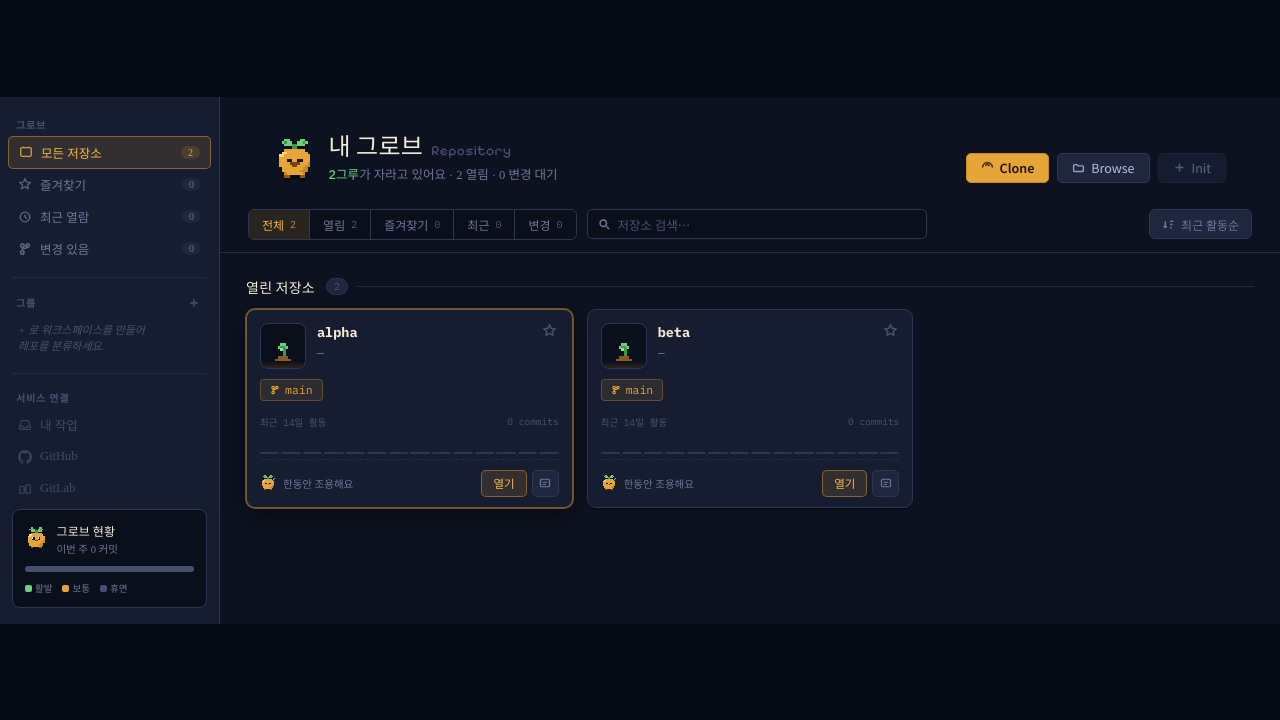
RepoManager — 그로브 카드 그리드 (RM2~RM4) › 검색은 이름으로 필터링한다
Type "alph" into the field with placeholder "저장소 검색…".
click(766, 224); type("alph")  # box [618,215,916,234]
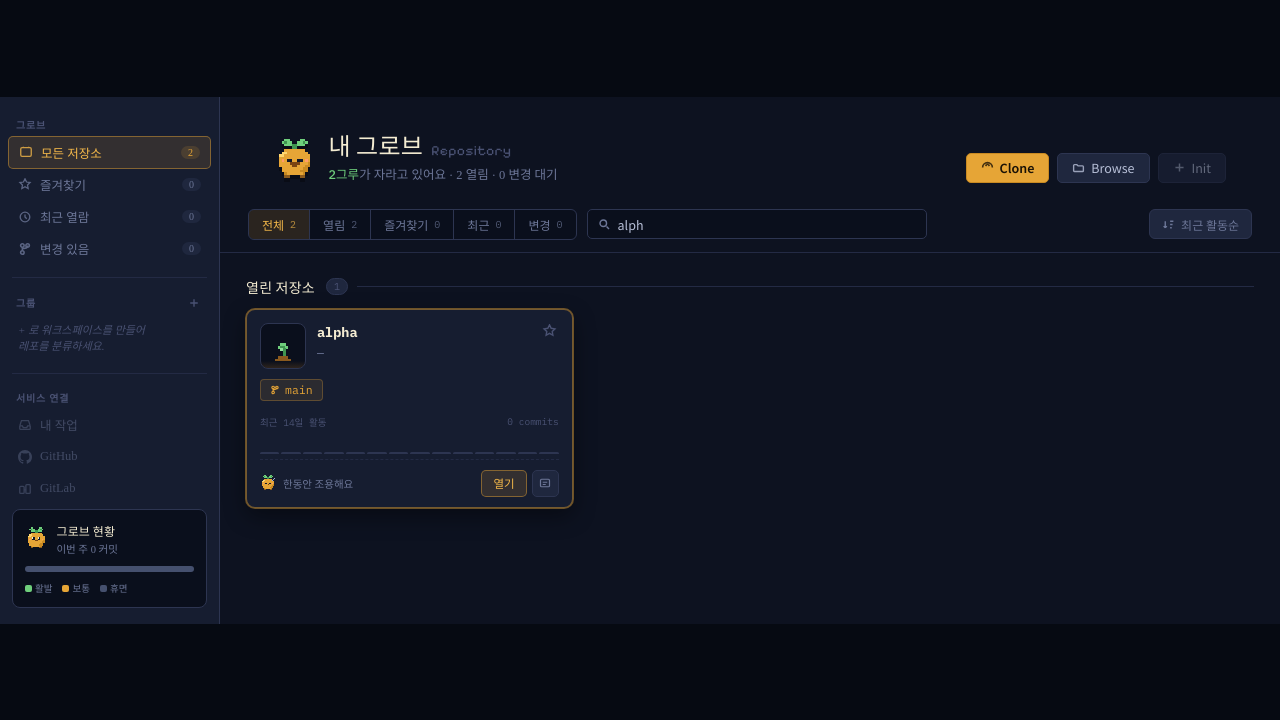
Check: the text "alpha" is shown, box [317,323,358,341]
Check: the text "beta" is gone
